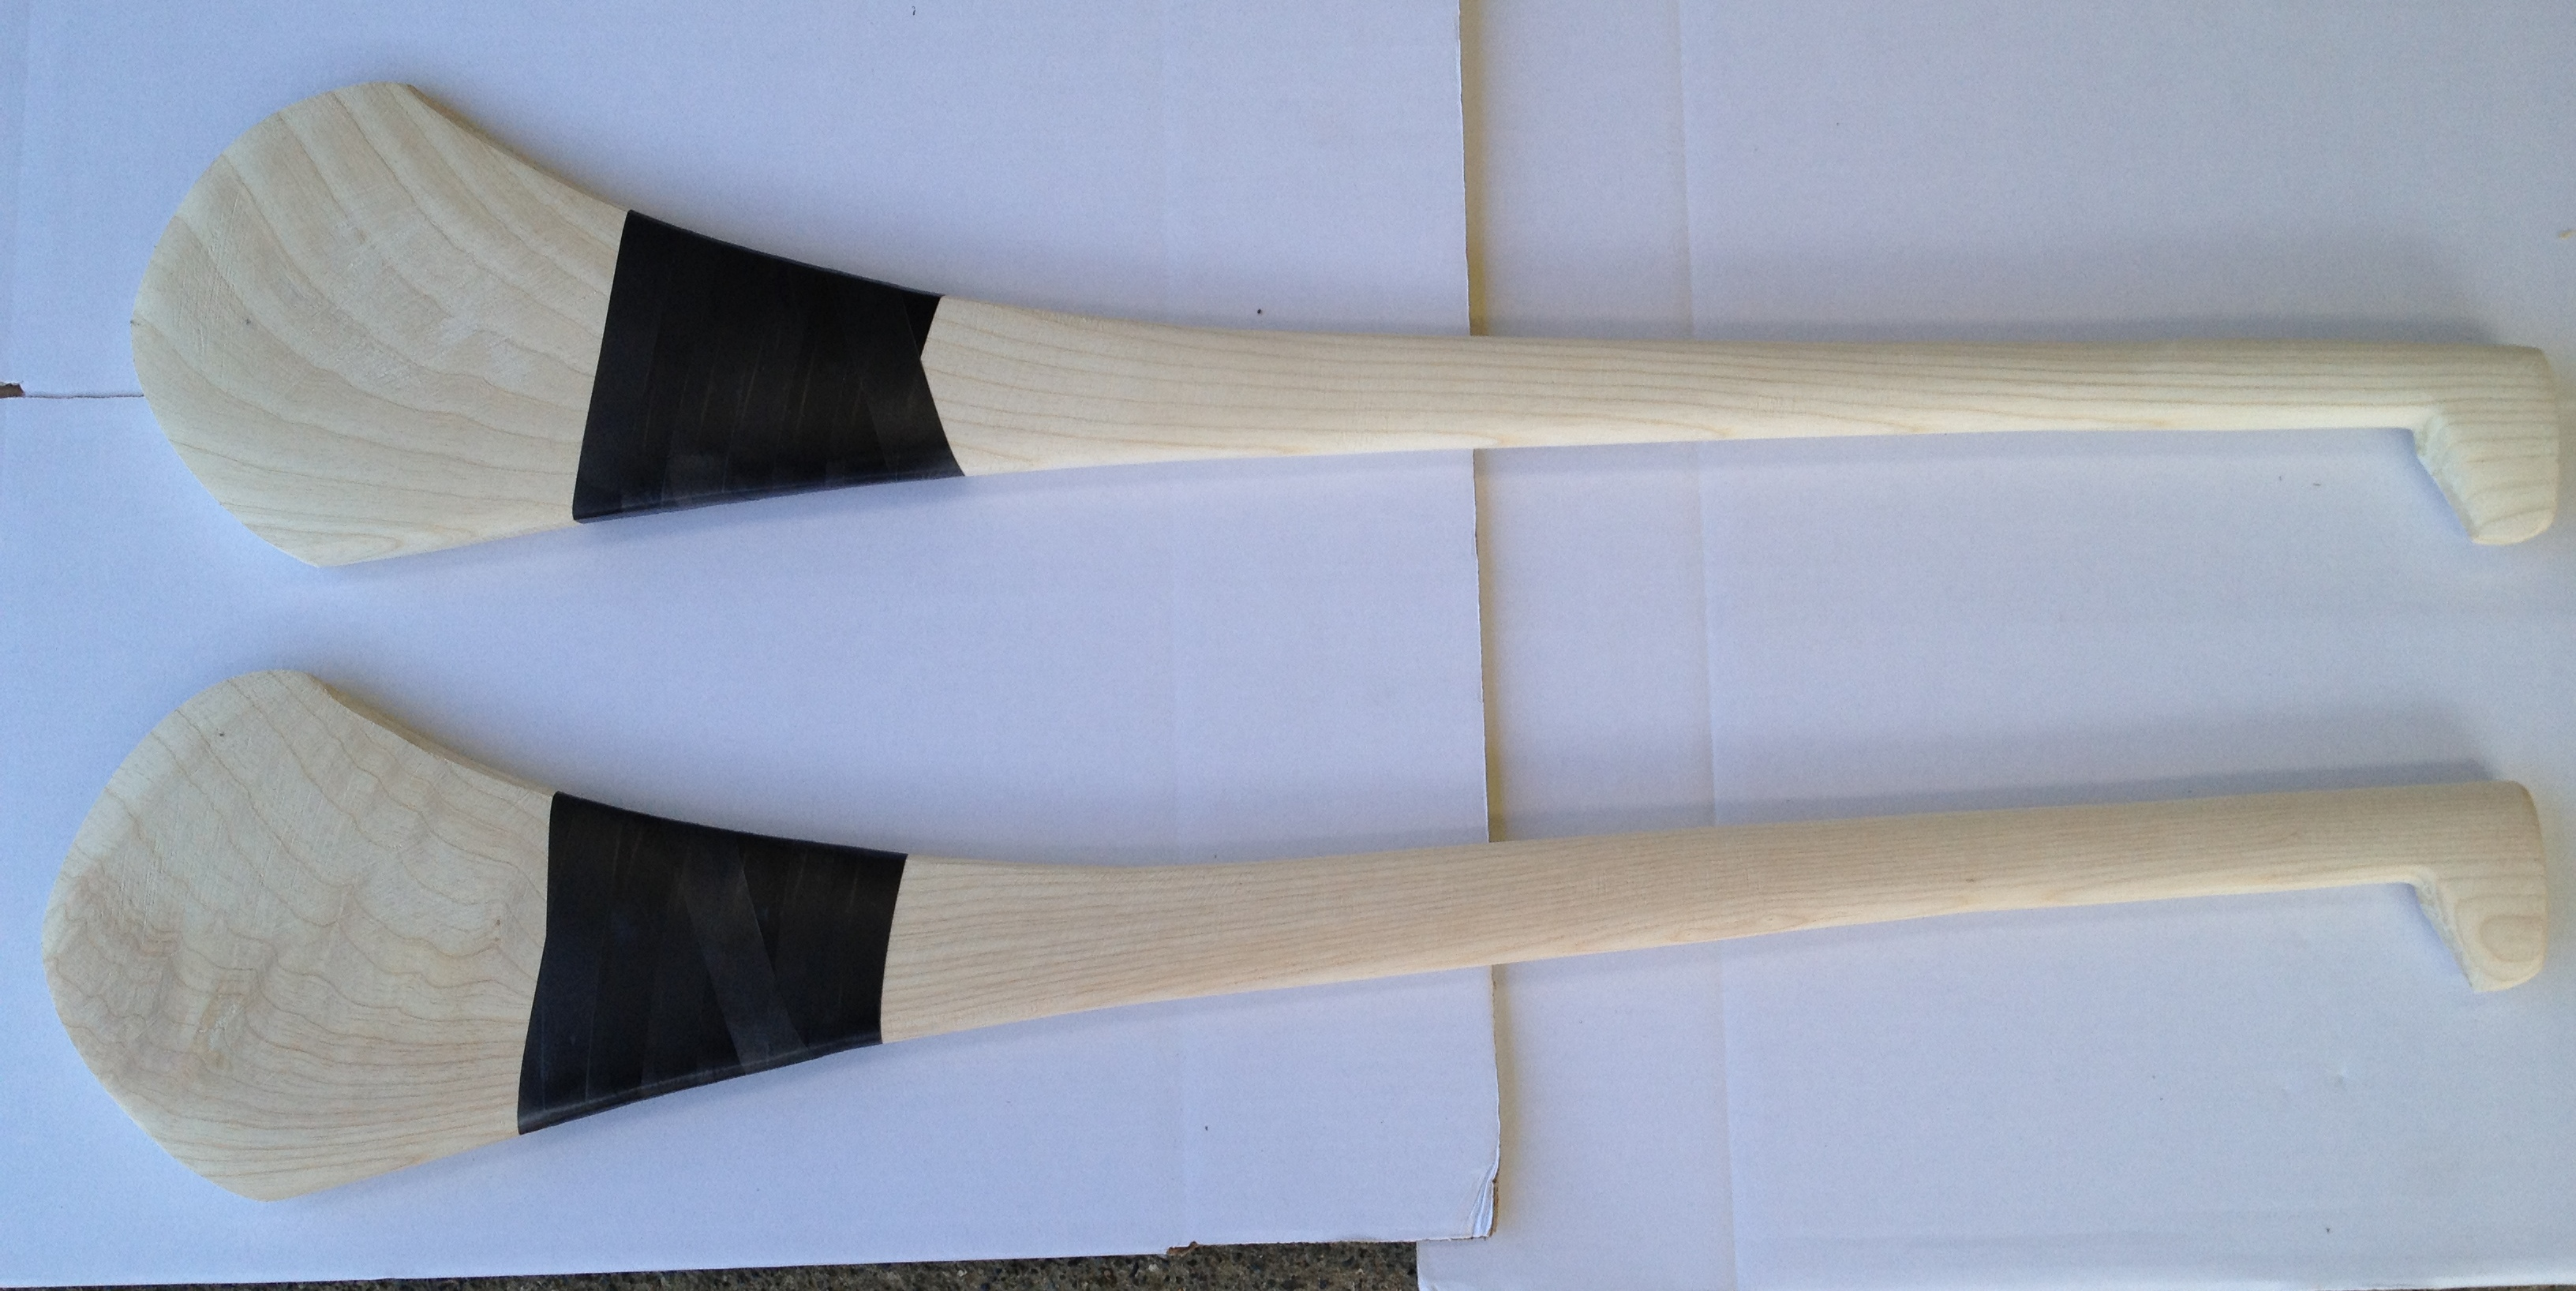hurley: (35, 667, 2568, 1230), (127, 76, 2571, 558)
